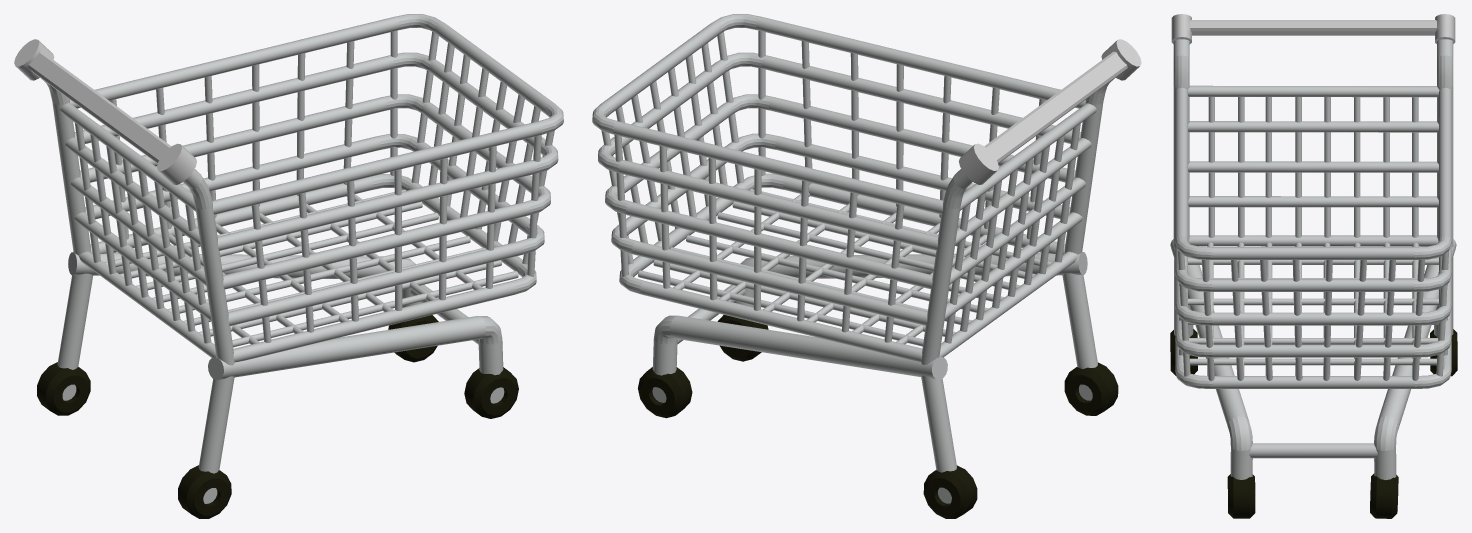
File: shopping_cart.fbx
3 views of the same model, side by side, from view 1: azimuth 30°, elevation 25°; view 2: azimuth 150°, elevation 25°; view 3: azimuth 270°, elevation 25° (orthographic). The views are drawn at different scales.
Parts seen in each view (by area): view 1: pCylinder365, pCylinder382, pCylinder327, pCylinder381, pCylinder329, pCylinder328, pCylinder330, pCylinder331, pCylinder394, pCylinder384, pCylinder323, pCylinder389 (+48 smaller); view 2: pCylinder366, pCylinder327, pCylinder382, pCylinder328, pCylinder394, pCylinder381, pCylinder384, pCylinder389, pCylinder329, pCylinder330, pCylinder396, pCylinder331 (+47 smaller); view 3: pCylinder382, pCylinder327, pCylinder365, pCylinder366, pCylinder346, pCylinder345, pCylinder344, pCylinder347, pCylinder343, pCylinder324, pCylinder391, pCylinder394 (+37 smaller).
Part boxes in pixels (box(x1,y1,x2,y2)): pCylinder365: box(208, 316, 503, 380); pCylinder382: box(212, 62, 563, 214); pCylinder327: box(70, 14, 498, 108); pCylinder381: box(217, 101, 558, 250); pCylinder329: box(223, 148, 550, 289); pCylinder328: box(74, 52, 493, 143); pCylinder330: box(228, 187, 544, 325); pCylinder331: box(233, 228, 536, 362); pCylinder394: box(80, 94, 477, 182); pCylinder384: box(85, 134, 471, 219); pCylinder323: box(183, 169, 234, 365); pCylinder389: box(90, 174, 463, 254); pCylinder366: box(652, 315, 947, 379); pCylinder327: box(592, 62, 943, 214); pCylinder382: box(657, 14, 1085, 108); pCylinder328: box(598, 101, 938, 250); pCylinder394: box(605, 148, 932, 289); pCylinder381: box(662, 52, 1080, 143); pCylinder384: box(611, 187, 927, 325); pCylinder389: box(619, 228, 922, 361); pCylinder329: box(678, 94, 1075, 182); pCylinder330: box(684, 133, 1070, 218); pCylinder396: box(921, 169, 972, 365); pCylinder331: box(692, 173, 1065, 254); pCylinder382: box(1175, 87, 1313, 259); pCylinder327: box(1313, 87, 1451, 259); pCylinder365: box(1170, 239, 1252, 479); pCylinder366: box(1374, 239, 1456, 480); pCylinder346: box(1188, 121, 1438, 132); pCylinder345: box(1188, 161, 1438, 172); pCylinder344: box(1188, 196, 1438, 207); pCylinder347: box(1188, 85, 1439, 97); pCylinder343: box(1188, 235, 1438, 246); pCylinder324: box(1171, 14, 1313, 44); pCylinder391: box(1313, 14, 1455, 43); pCylinder394: box(1313, 275, 1451, 325).
Bounding box in the file's own units: 1.83 × 1.6 × 1.19.
